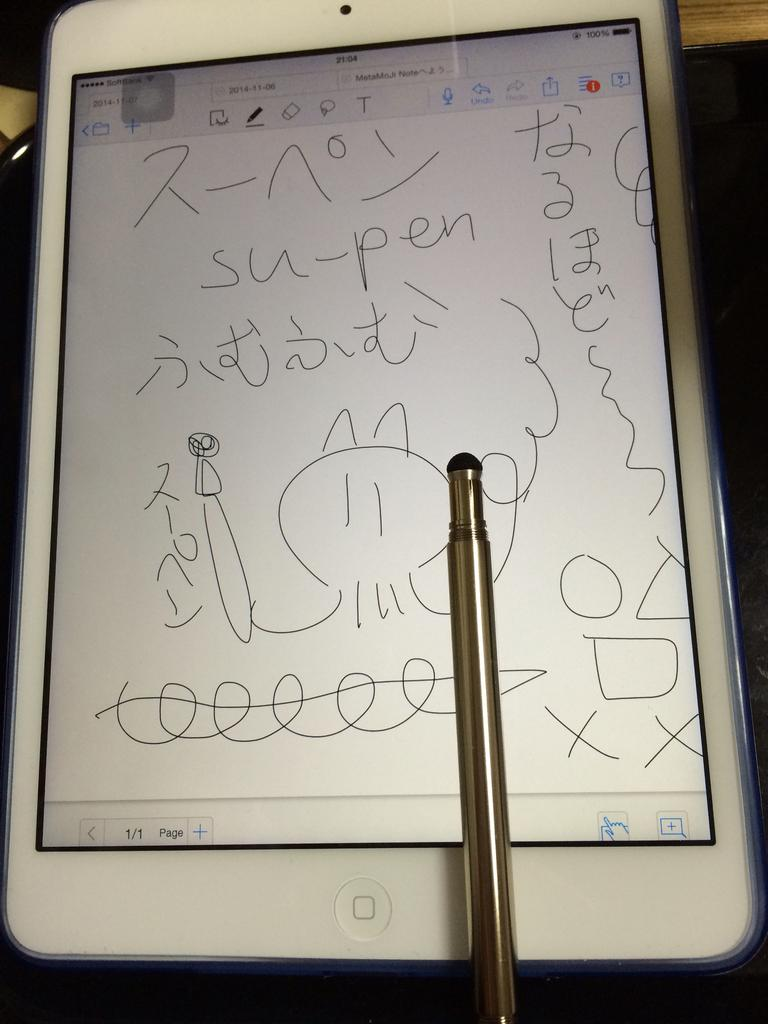pen: (445, 447, 522, 1023)
